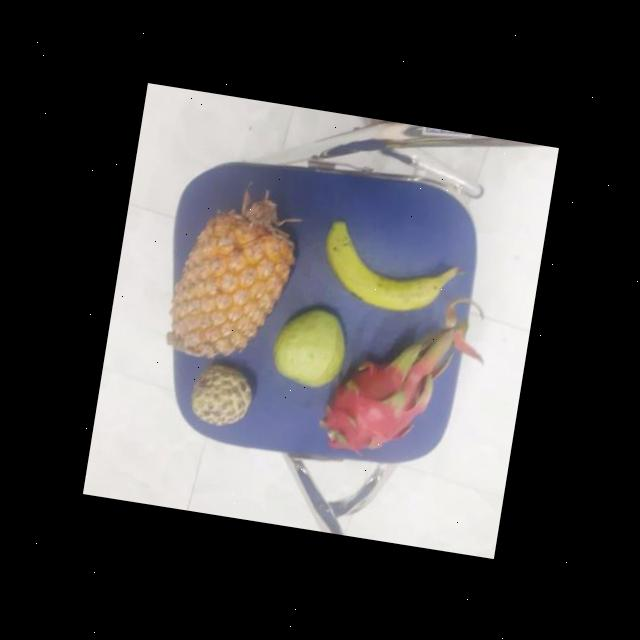Sakya fruit: (187, 360, 257, 428)
banana: (318, 226, 462, 317)
guava: (269, 302, 354, 391)
pineapple: (167, 199, 300, 366)
pitaya: (321, 346, 435, 462)
